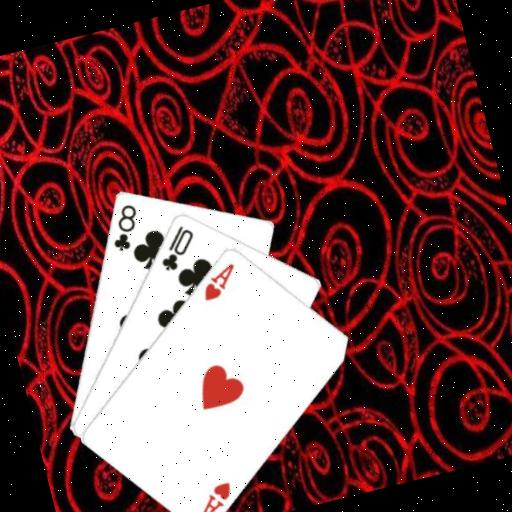10C: (150, 220, 203, 276)
8C: (101, 199, 147, 255)
AH: (194, 259, 243, 304), (189, 477, 239, 512)
